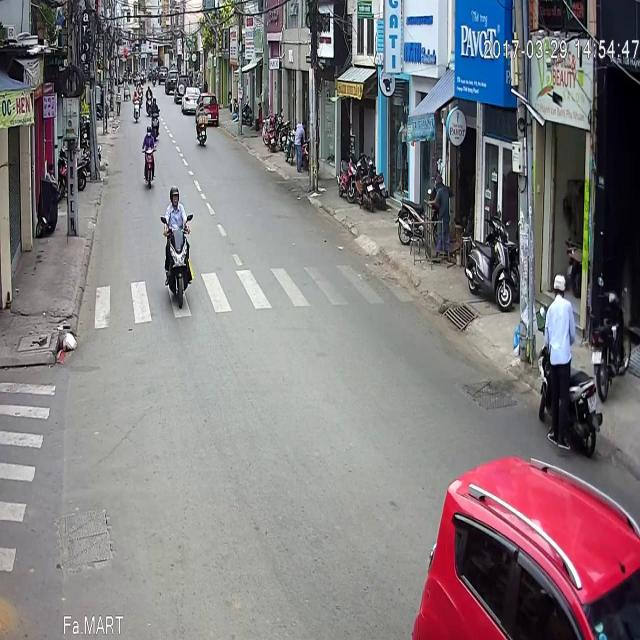car: (412, 396, 640, 609), (195, 34, 219, 69)
motorcycle: (160, 126, 194, 251), (141, 67, 157, 132), (194, 44, 208, 87), (150, 39, 160, 84)
